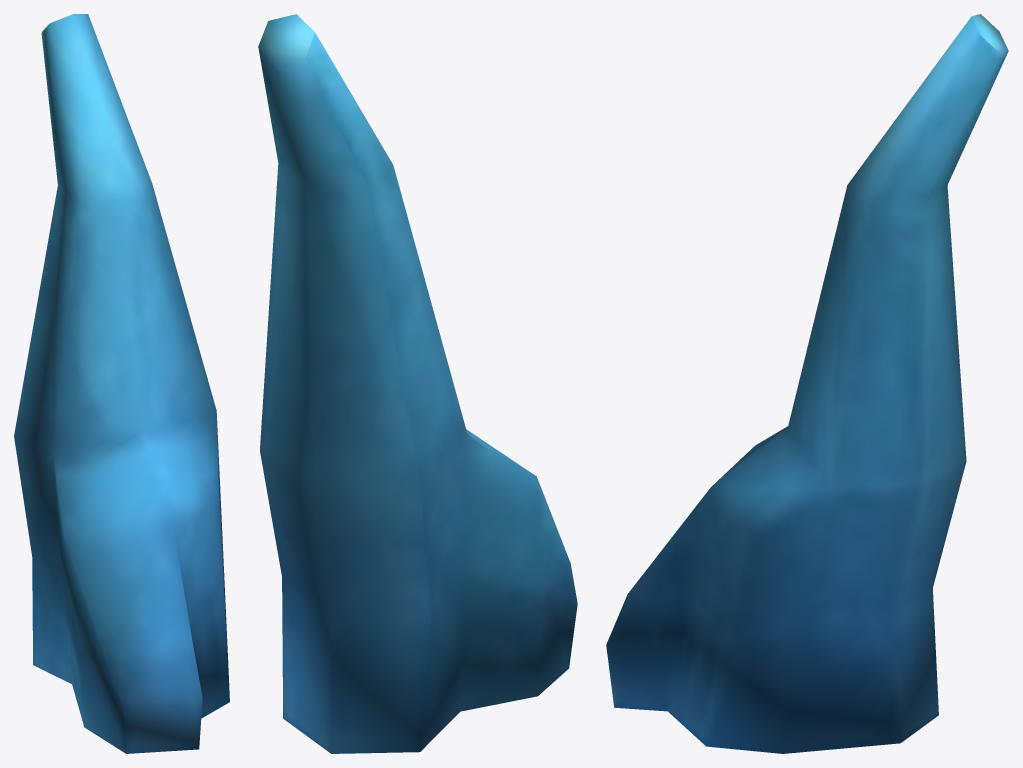
Rendered from Stage_BingYuan_BingLing06.FBX.
3 renders of one model, left to right at view 1: azimuth 30°, elevation 25°; view 2: azimuth 150°, elevation 25°; view 3: azimuth 270°, elevation 25°, orthographic. The views are drawn at different scales.
Parts seen in each view (by area): view 1: Stage_BingYuan_BingLing06; view 2: Stage_BingYuan_BingLing06; view 3: Stage_BingYuan_BingLing06.
Part boxes in pixels (x1=…): Stage_BingYuan_BingLing06: x1=14, y1=14, x2=229, y2=753; Stage_BingYuan_BingLing06: x1=258, y1=14, x2=577, y2=753; Stage_BingYuan_BingLing06: x1=606, y1=14, x2=1008, y2=753.
Size of the model in its own units: 31.92 by 101 by 51.89.
